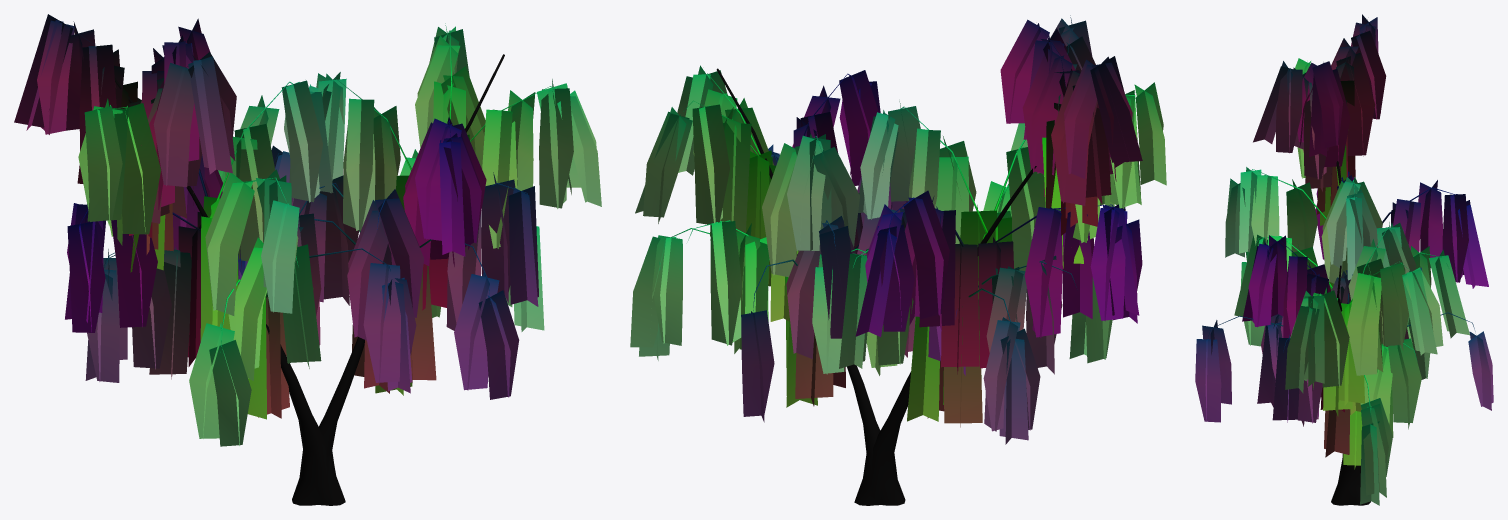
File: Tree_7_10.fbx
3 renders of one model, left to right at view 1: azimuth 30°, elevation 25°; view 2: azimuth 150°, elevation 25°; view 3: azimuth 270°, elevation 25°, orthographic. The views are drawn at different scales.
Visible parts, largest first — view 1: _10; view 2: _10; view 3: _10.
Boxes of the visible parts, x1,y1,x2,y2 form: _10: (14, 14, 601, 505); _10: (630, 15, 1166, 505); _10: (1195, 14, 1493, 505).
Bounding box in the file's own units: 1518 × 1450 × 997.
